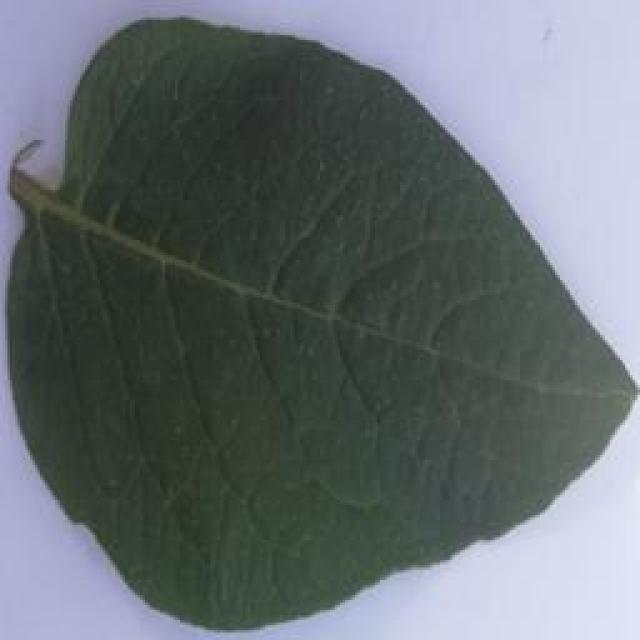Potato_Healthy: (5, 19, 624, 629)
